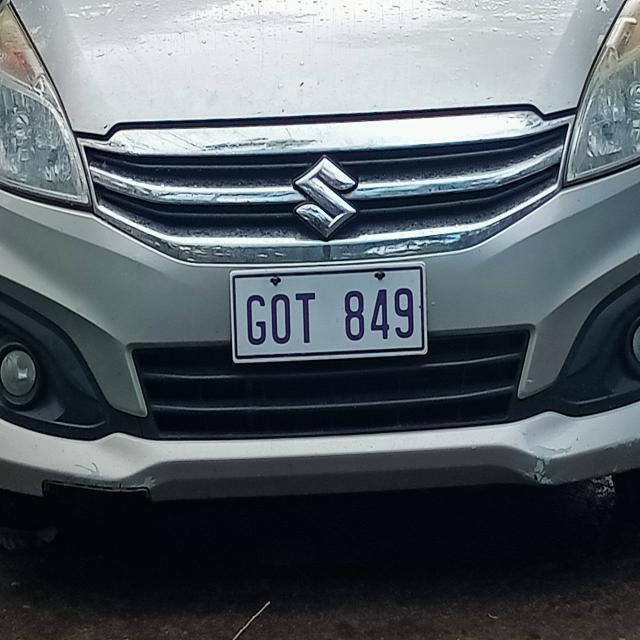LicensePlate: (223, 257, 441, 368)
